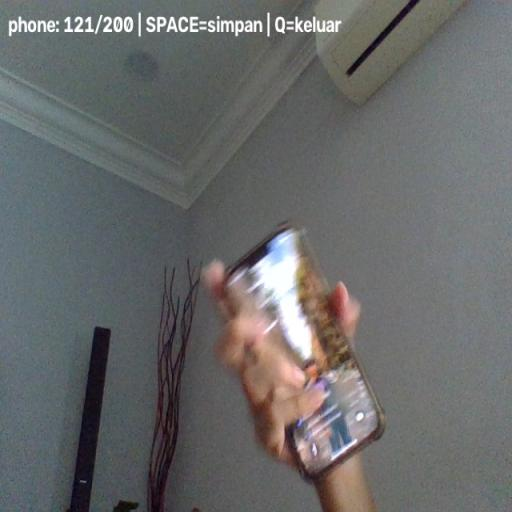Phone: (224, 221, 386, 484)
